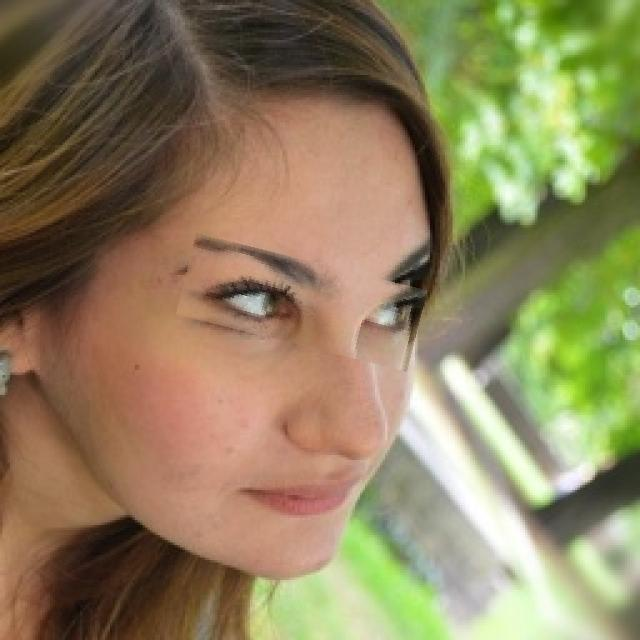no-glasses: (180, 247, 424, 359)
